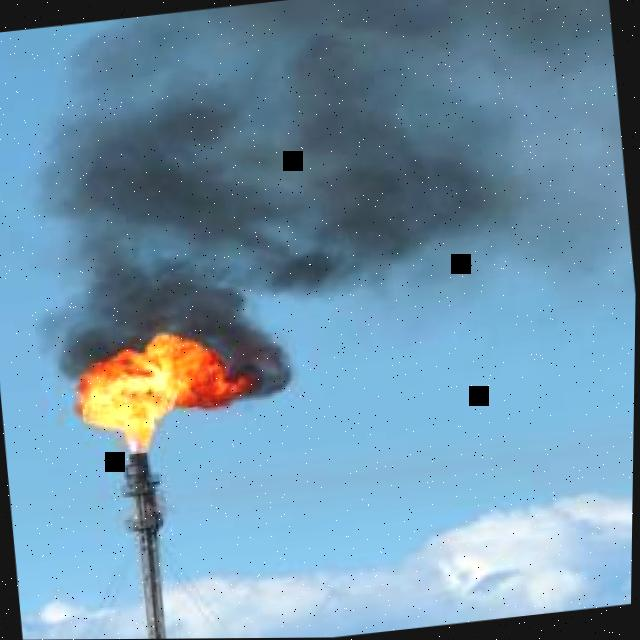fire: (75, 333, 255, 452)
smoke: (30, 0, 613, 402)
